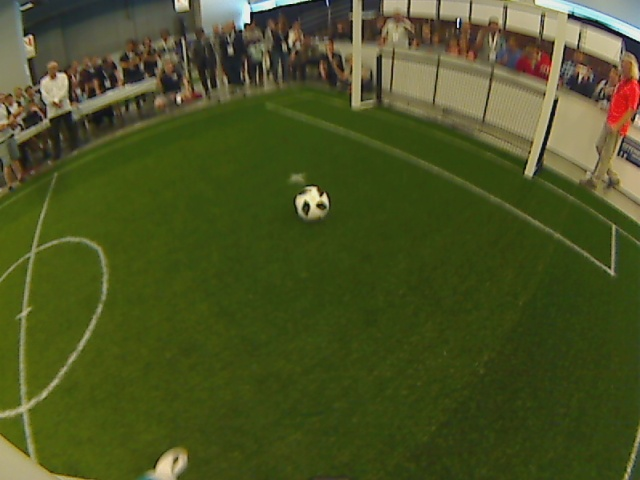ball: (291, 184, 329, 220)
